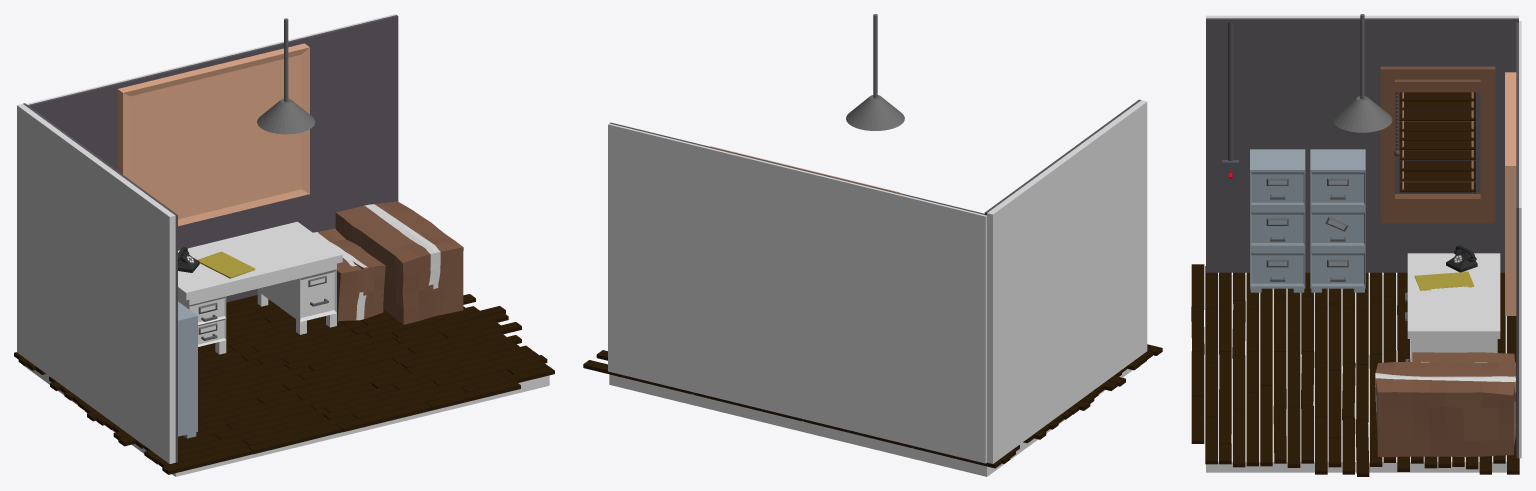
File: Boxeszz.glb
The picture shows the model from 3 angles, left to right: view 1: azimuth 30°, elevation 25°; view 2: azimuth 150°, elevation 25°; view 3: azimuth 270°, elevation 25°; orthographic projection. The views are drawn at different scales.
Visible parts, largest first — view 1: Cube.066, Cube.090, Cube.003, Cube.016, Cube.004, Plane.002, Plane.001, Cube.006, Cube.001, Cone, Plane.011, Cube; view 2: Cube.066, Cube.001, Cube.090, Cone, Cube.003; view 3: Cube.003, Cube.090, Cube.006, Plane.002, Cube.020, Cube.034, Cube.004, Cube.001, Cube.016, Cube.066, Cone, Torus.008 (+6 smaller).
Boxes of the visible parts, x1,y1,x2,y2 form: Cube.066: (17, 14, 396, 463); Cube.090: (14, 294, 554, 474); Cube.003: (23, 15, 398, 462); Cube.016: (117, 43, 309, 226); Cube.004: (178, 221, 342, 354); Plane.002: (335, 201, 463, 324); Plane.001: (313, 228, 385, 321); Cube.006: (178, 301, 197, 438); Cube.001: (23, 365, 549, 476); Cone: (257, 18, 315, 134); Plane.011: (226, 238, 308, 270); Cube: (198, 251, 255, 278); Cube.066: (608, 100, 1147, 463); Cube.001: (609, 368, 1132, 476); Cube.090: (583, 344, 1162, 468); Cone: (846, 14, 904, 130); Cube.003: (609, 99, 1140, 215); Cube.003: (1206, 18, 1518, 458); Cube.090: (1191, 264, 1519, 476); Cube.006: (1250, 149, 1365, 292); Plane.002: (1375, 362, 1516, 456); Cube.020: (1380, 66, 1495, 223); Cube.034: (1399, 92, 1475, 192); Cube.004: (1407, 253, 1500, 361); Cube.001: (1206, 275, 1506, 472); Cube.016: (1505, 72, 1516, 315); Cube.066: (1206, 15, 1521, 458); Cone: (1332, 14, 1392, 132); Torus.008: (1266, 178, 1410, 361).
Bounding box in the file's own units: 9.03 × 7.28 × 5.98.
